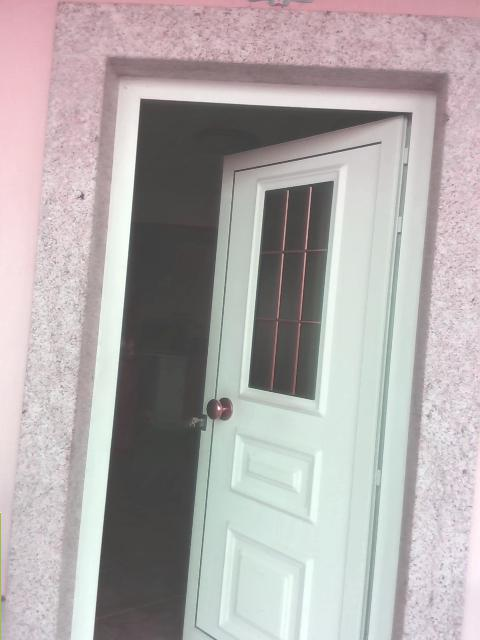semi_door: (66, 54, 447, 639)
